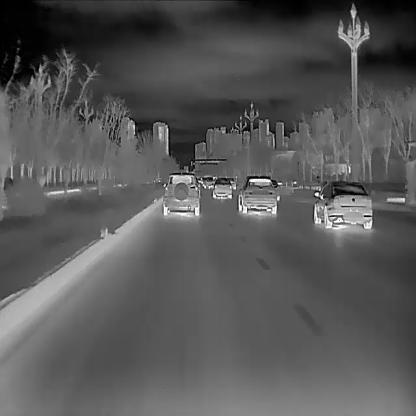car: (312, 180, 372, 230), (162, 172, 199, 216), (238, 174, 276, 213), (212, 176, 231, 198), (204, 176, 213, 187), (229, 176, 236, 188)
